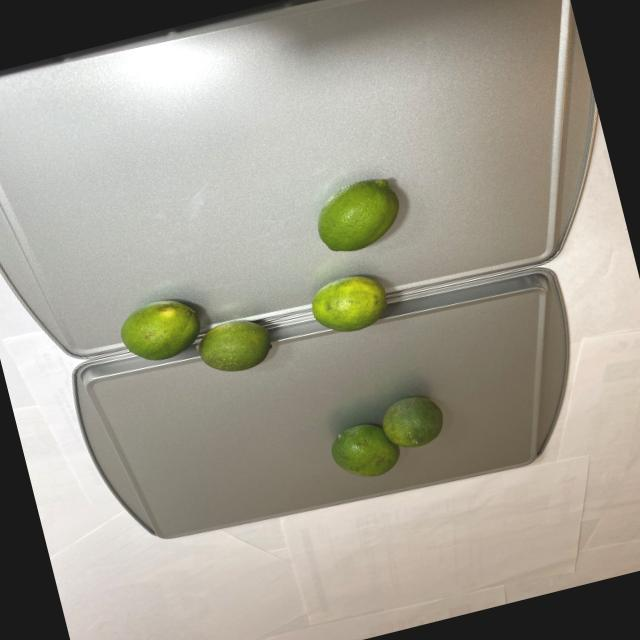lemon: (99, 166, 433, 396), (311, 382, 462, 487)
